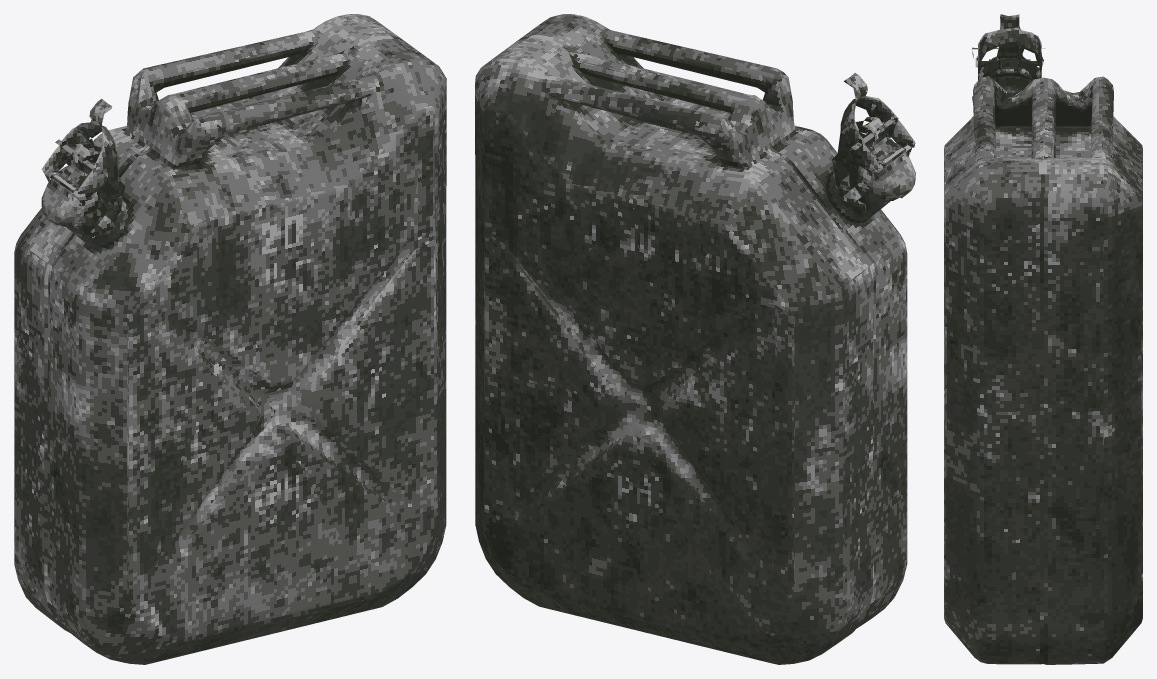
File: metal_jerrycan_green.glb
3 renders of one model, left to right at view 1: azimuth 30°, elevation 25°; view 2: azimuth 150°, elevation 25°; view 3: azimuth 270°, elevation 25°, orthographic. The views are drawn at different scales.
Visible parts, largest first — view 1: mesh; view 2: mesh; view 3: mesh.
Part boxes in pixels (x1,y1,x2,y2): mesh: [14, 14, 446, 664]; mesh: [475, 14, 915, 664]; mesh: [944, 14, 1142, 664].
Bounding box in the file's own units: 17.34 × 24 × 8.21.
1 material, 1 textured.
